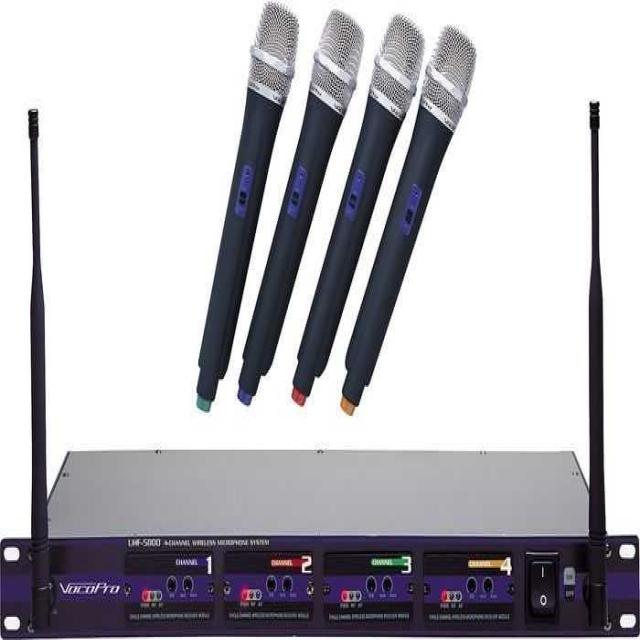microphone: (340, 27, 477, 417), (291, 16, 426, 404), (235, 11, 365, 405), (180, 5, 299, 412)
